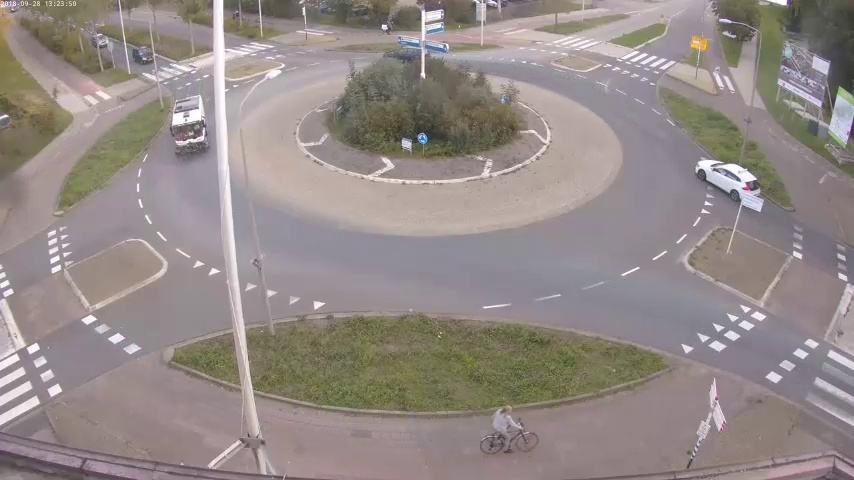bicycle: (476, 402, 538, 451)
car: (700, 157, 763, 212), (126, 42, 154, 61), (91, 31, 106, 47)
van: (166, 92, 206, 157)
